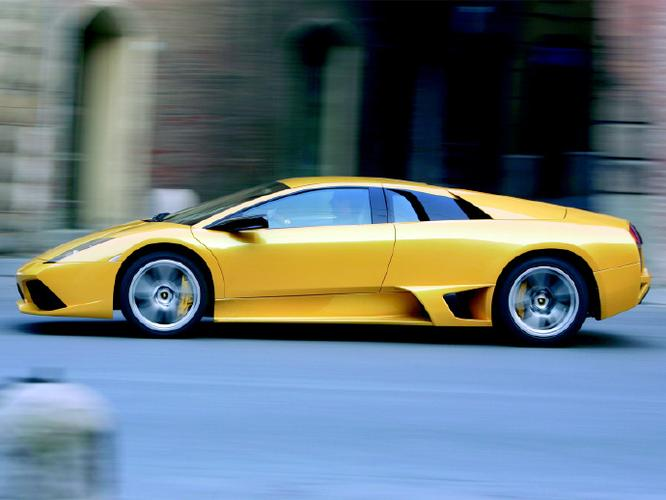汽车: (16, 163, 654, 360)
